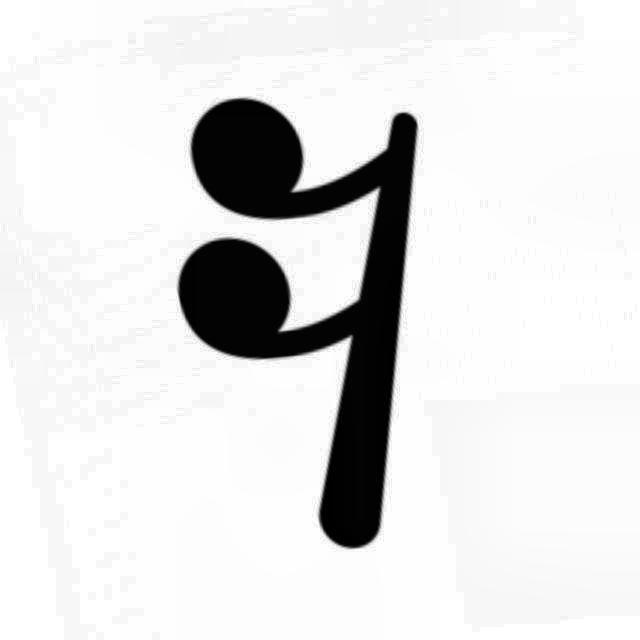Eighth-rest: (124, 65, 494, 582)
